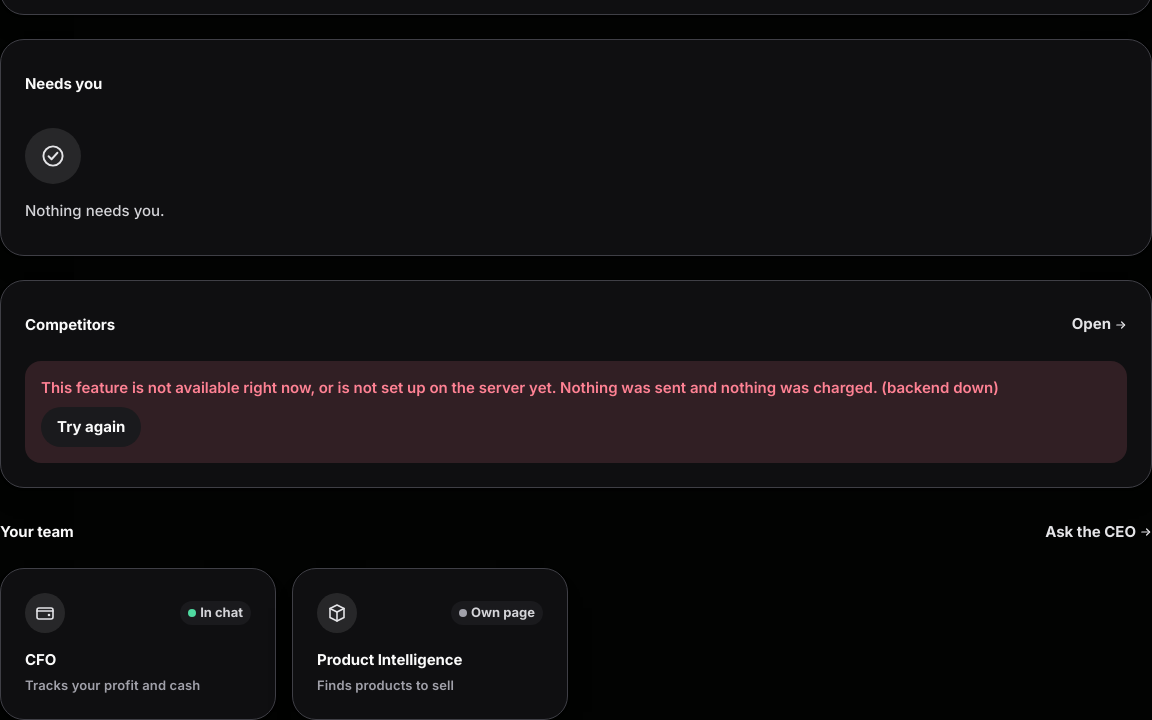
Test case: Overview › offers a retry when the competitor counts fail to load, and shows them once it works
This screenshot has width=1152, height=720.
(page scrolled)
Click the button "Try again". click: [91, 427]
box: [41,407,141,447]
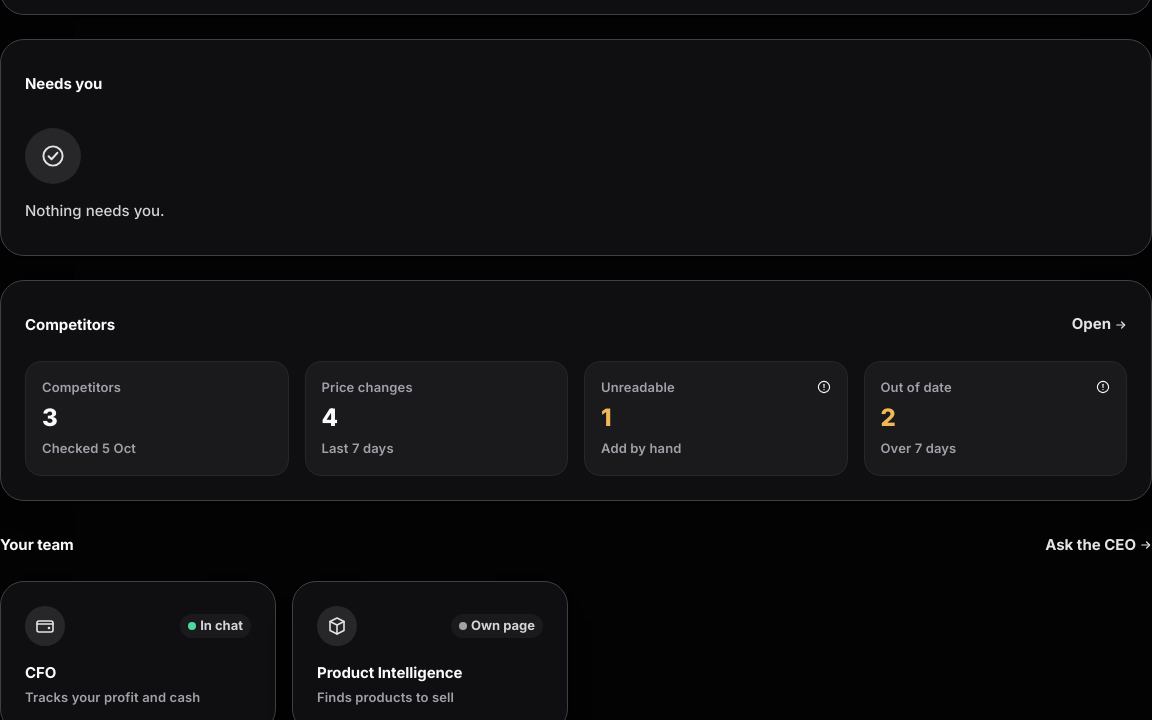
Expected: the element with test id "market-watch" shows "Competitors", [25,315,115,334]
Expected: the text "not set up on the server yet" is gone
